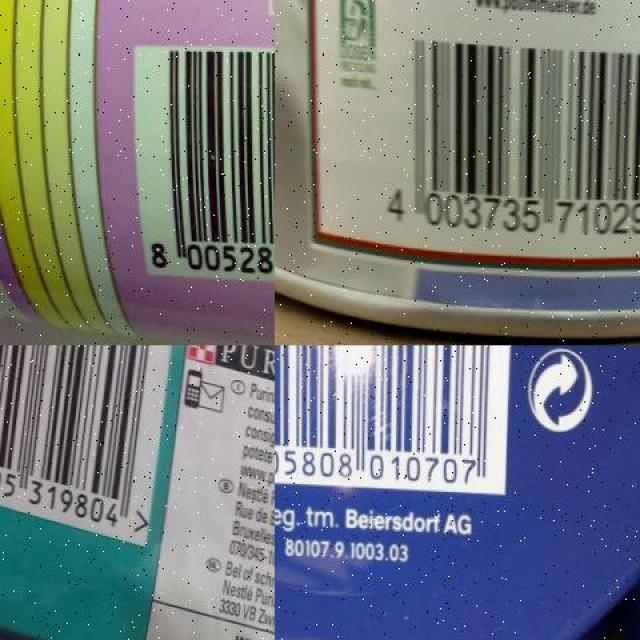Barcode: (380, 20, 640, 248), (128, 32, 275, 288), (0, 345, 175, 544), (275, 346, 512, 490)
